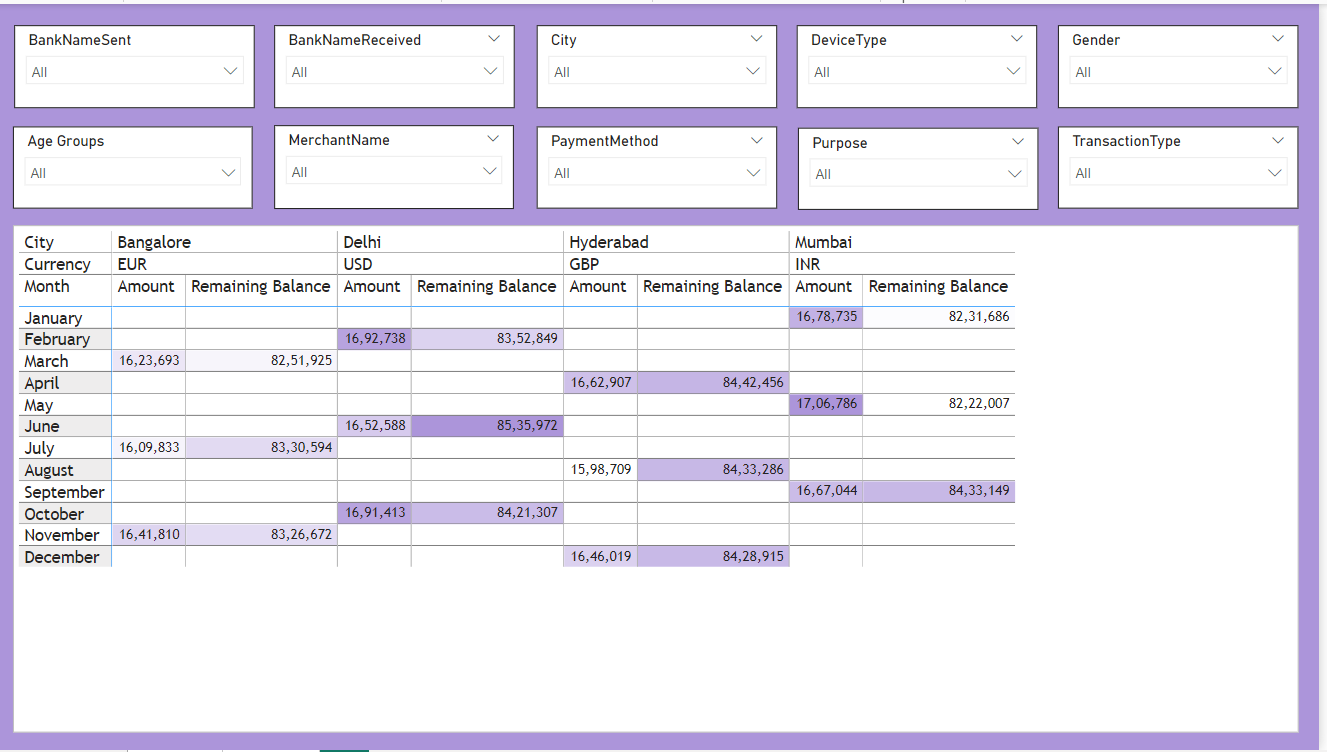

What the dashboard file says about the page in this screenshot:
{"tool":"powerbi","page":{"name":" Page 2","canvas":[1280,720],"ordinal":1},"visuals":[{"type":"slicer","fields":{"Values":["UPI Transactions.BankNameSent"]},"box":[20,20,232,80],"z":0},{"type":"slicer","fields":{"Values":["UPI Transactions.BankNameReceived"]},"box":[272,20.8,232,80],"z":1000},{"type":"slicer","fields":{"Values":["UPI Transactions.City"]},"box":[524.6,20,232,80],"z":2000},{"type":"slicer","fields":{"Values":["UPI Transactions.DeviceType"]},"box":[776,20,232.3,80],"z":3000},{"type":"slicer","fields":{"Values":["UPI Transactions.Gender"]},"box":[1028,20,232.3,80],"z":4000},{"type":"slicer","fields":{"Values":["UPI Transactions.Age Groups"]},"box":[19.6,118.6,231.1,79.5],"z":5000},{"type":"slicer","fields":{"Values":["UPI Transactions.MerchantName"]},"box":[271.5,117.4,231.1,80.7],"z":6000},{"type":"slicer","fields":{"Values":["UPI Transactions.PaymentMethod"]},"box":[524.6,118.6,232.3,79.5],"z":7000},{"type":"slicer","fields":{"Values":["UPI Transactions.Purpose"]},"box":[776.5,119.8,232.3,79.5],"z":8000},{"type":"slicer","fields":{"Values":["UPI Transactions.TransactionType"]},"box":[1028.4,118.6,232.3,79.5],"z":9000},{"type":"pivotTable","fields":{"Values":["Sum(UPI Transactions.Amount)","Sum(UPI Transactions.RemainingBalance)"],"Rows":["UPI Transactions.TransactionDate.Variation.Date Hierarchy.Month"],"Columns":["UPI Transactions.City","UPI Transactions.Currency"]},"box":[19.2,214.1,1240.5,489.9],"z":10000}]}

Visuals, with their boxes in screenshot pixels (x1, y1, x2, y2), scaled from the page's 1280x720 canvas onto the 1327x752 screenshot:
slicer - UPI Transactions.BankNameSent: rect(21, 21, 261, 104)
slicer - UPI Transactions.BankNameReceived: rect(282, 22, 523, 105)
slicer - UPI Transactions.City: rect(544, 21, 784, 104)
slicer - UPI Transactions.DeviceType: rect(804, 21, 1045, 104)
slicer - UPI Transactions.Gender: rect(1066, 21, 1307, 104)
slicer - UPI Transactions.Age Groups: rect(20, 124, 260, 207)
slicer - UPI Transactions.MerchantName: rect(281, 123, 521, 207)
slicer - UPI Transactions.PaymentMethod: rect(544, 124, 785, 207)
slicer - UPI Transactions.Purpose: rect(805, 125, 1046, 208)
slicer - UPI Transactions.TransactionType: rect(1066, 124, 1307, 207)
pivotTable - Sum(UPI Transactions.Amount) x Sum(UPI Transactions.RemainingBalance): rect(20, 224, 1306, 735)
